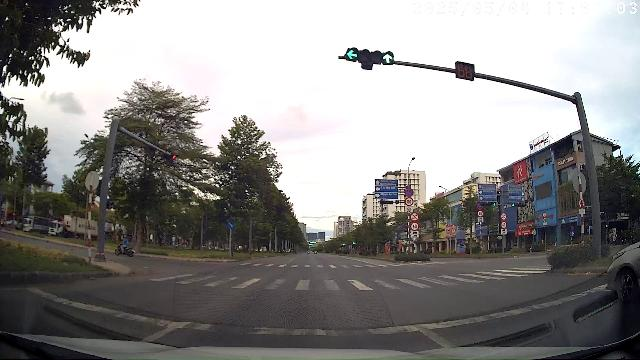127-toc-do-toi-da-60: (410, 222, 419, 231), (500, 221, 507, 228)
127-toc-do-toi-da-80: (405, 197, 414, 206), (477, 210, 484, 217)
130-cam-dung-va-do-xe: (405, 188, 414, 197)
